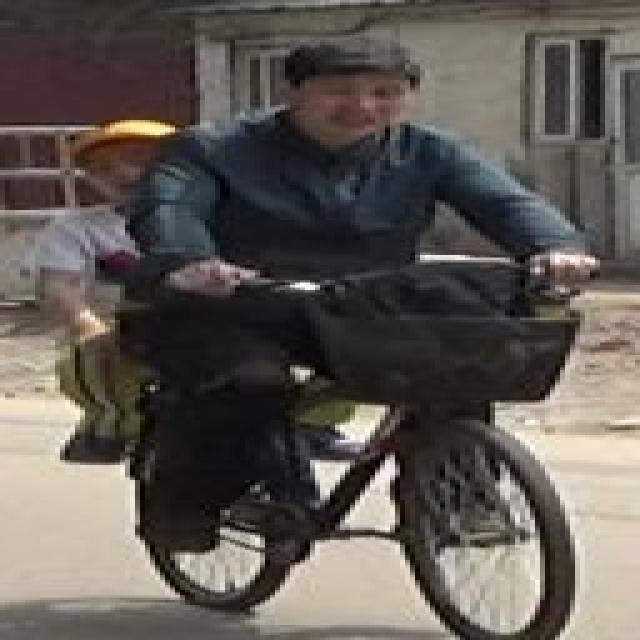adult: (137, 55, 622, 545)
child: (48, 125, 366, 463)
